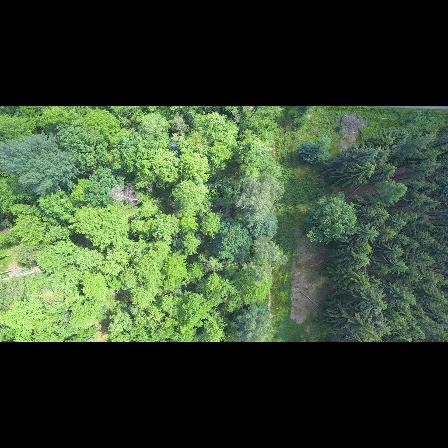Dead: (105, 182, 142, 206)
